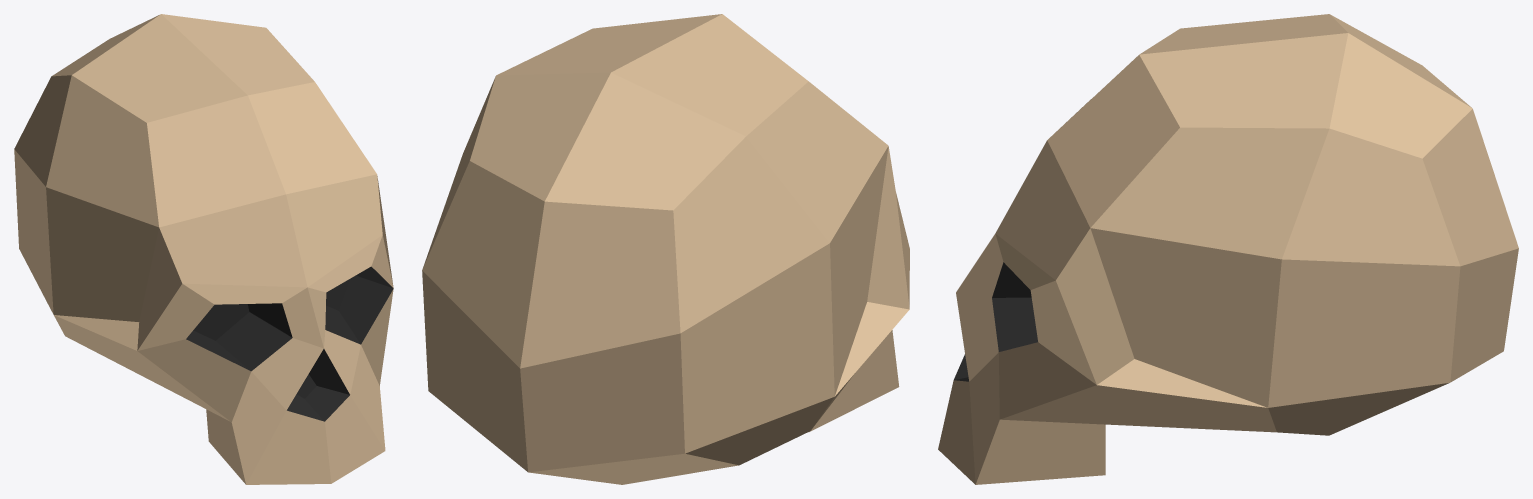
File: skulll.fbx
The picture shows the model from 3 angles, left to right: view 1: azimuth 30°, elevation 25°; view 2: azimuth 150°, elevation 25°; view 3: azimuth 270°, elevation 25°; orthographic projection. The views are drawn at different scales.
Visible parts, largest first — view 1: skull_human; view 2: skull_human; view 3: skull_human.
Boxes of the visible parts, bbox=[...] form: skull_human: bbox=[14, 14, 393, 484]; skull_human: bbox=[422, 14, 909, 484]; skull_human: bbox=[938, 14, 1518, 484].
Bounding box in the file's own units: 31.92 × 37.01 × 46.62.
